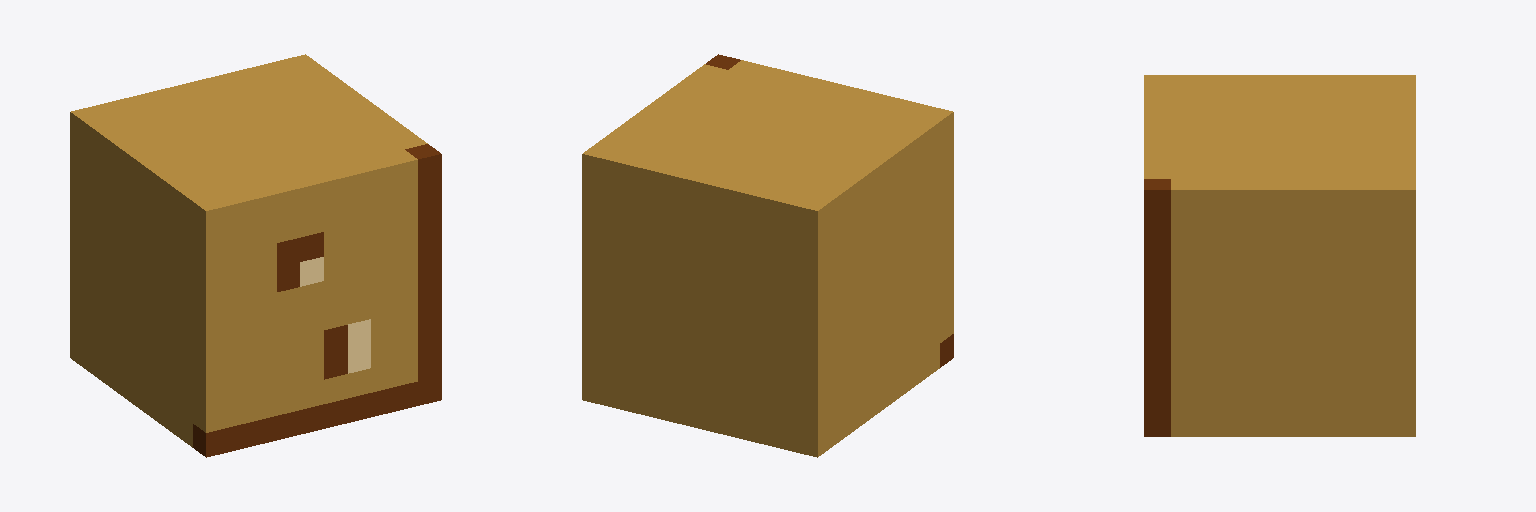
3 renders of one model, left to right at view 1: azimuth 30°, elevation 25°; view 2: azimuth 150°, elevation 25°; view 3: azimuth 270°, elevation 25°, orthographic.
Visible parts, largest first — view 1: object 1; view 2: object 1; view 3: object 1.
Part boxes in pixels (x1,y1,x2,y2): object 1: (70, 54, 441, 457); object 1: (582, 54, 953, 457); object 1: (1144, 75, 1415, 436).
Bounding box in the file's own units: 1 × 1 × 1.
1 materials, 1 textured.